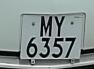3: (38, 37, 53, 59)
5: (52, 36, 65, 60)
6: (25, 37, 39, 59)
7: (63, 35, 78, 60)
M: (38, 14, 54, 39)
Y: (52, 14, 67, 39)
